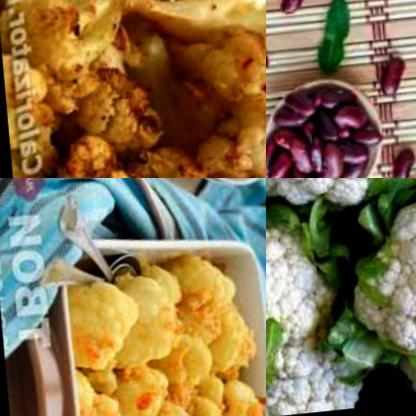cayliflower: (0, 0, 266, 178), (57, 251, 266, 416), (336, 209, 416, 416), (266, 202, 348, 379), (266, 178, 416, 237), (266, 329, 361, 416)
fasol: (266, 73, 385, 178), (368, 51, 413, 108), (380, 144, 415, 178), (268, 0, 312, 22), (266, 32, 277, 77)
